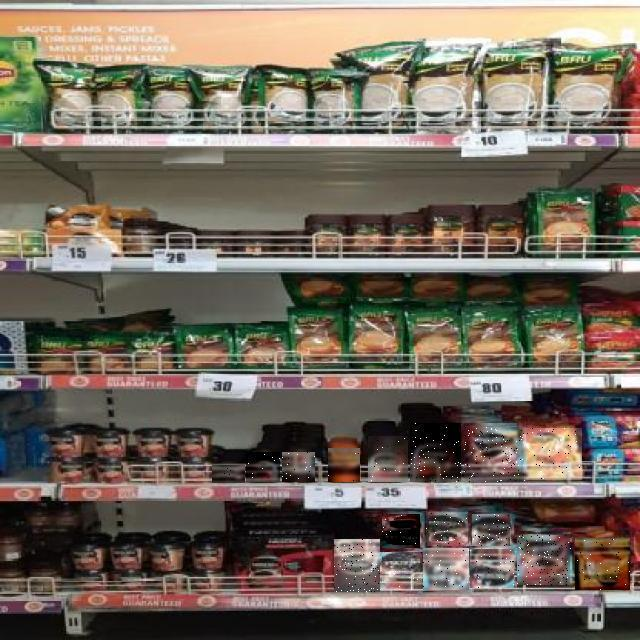Coffee: (465, 427, 527, 482), (524, 428, 582, 480), (410, 423, 461, 482), (575, 538, 630, 590), (518, 535, 572, 585), (334, 539, 380, 592), (423, 548, 469, 590), (369, 436, 409, 482), (471, 549, 515, 588), (380, 552, 423, 590), (426, 512, 468, 546), (383, 514, 421, 548), (472, 514, 510, 546), (328, 449, 360, 483), (246, 452, 280, 482), (282, 452, 315, 482), (212, 465, 245, 483)
